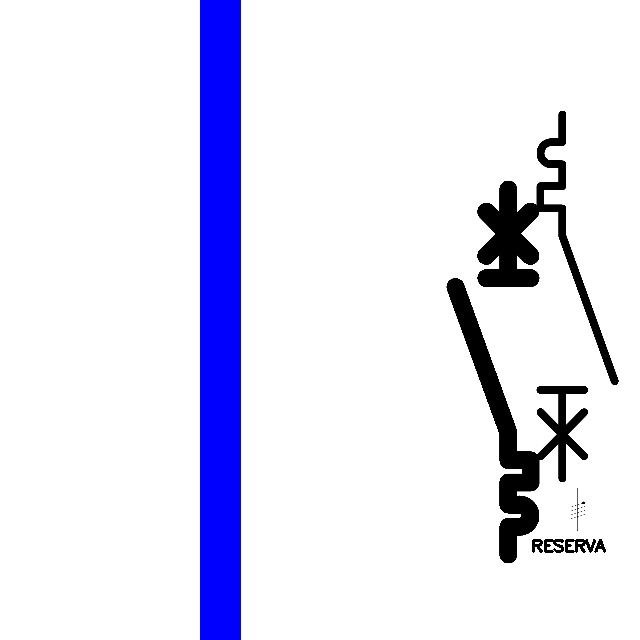interruptor_termomagnetico: (446, 180, 540, 564), (531, 105, 624, 487)
